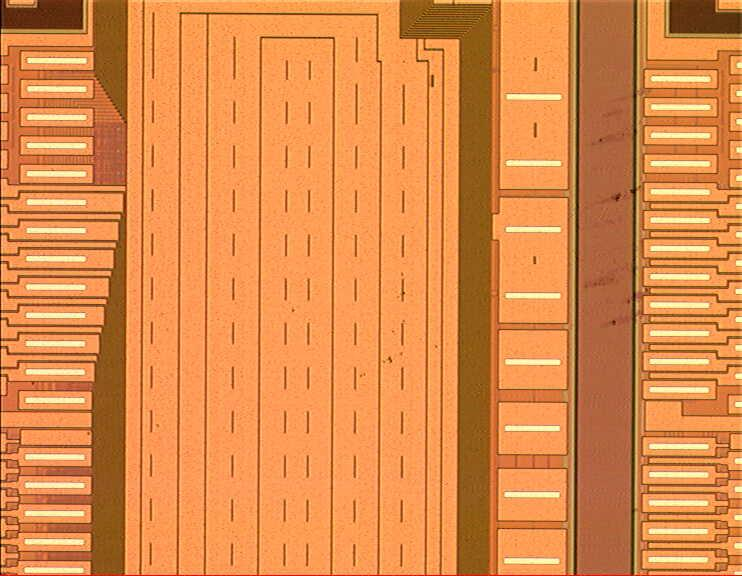SCRATCH: (288, 77, 682, 387)
